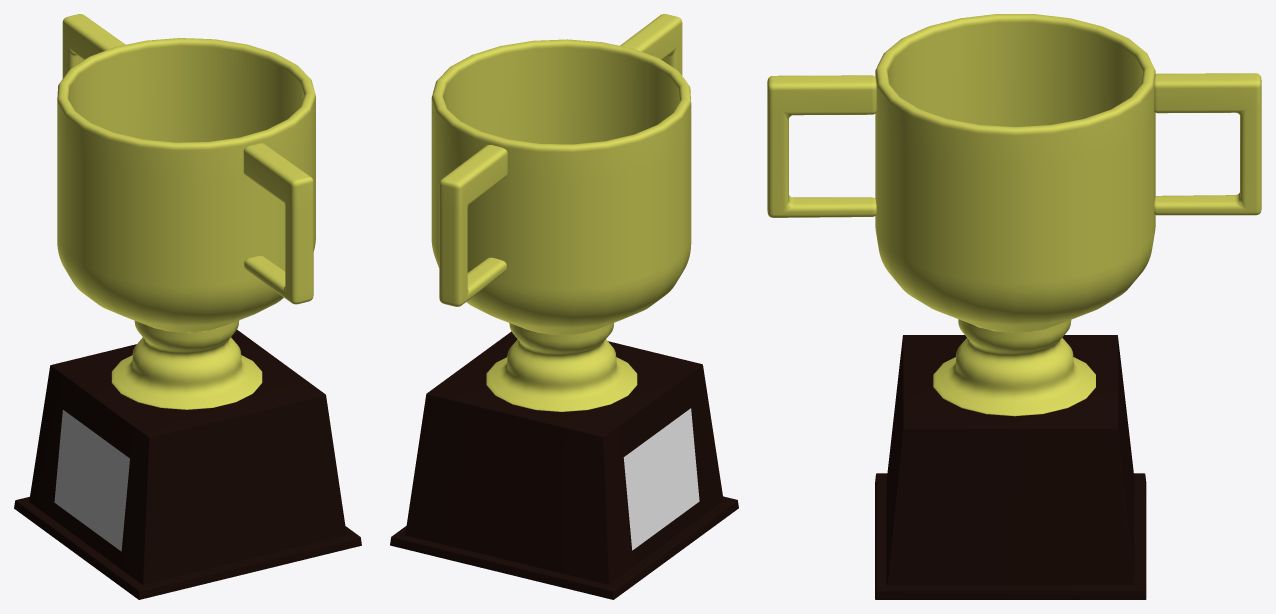
The model's file is Trophy_Highpoly.fbx.
The picture shows the model from 3 angles, left to right: view 1: azimuth 30°, elevation 25°; view 2: azimuth 150°, elevation 25°; view 3: azimuth 270°, elevation 25°; orthographic projection. The views are drawn at different scales.
Visible parts, largest first — view 1: Trophy_HighPoly; view 2: Trophy_HighPoly; view 3: Trophy_HighPoly.
Part boxes in pixels (<box>): Trophy_HighPoly: <box>14,14,361,599</box>; Trophy_HighPoly: <box>390,14,738,599</box>; Trophy_HighPoly: <box>767,14,1261,599</box>.
Bounding box in the file's own units: 21.8 × 40.29 × 38.37.
